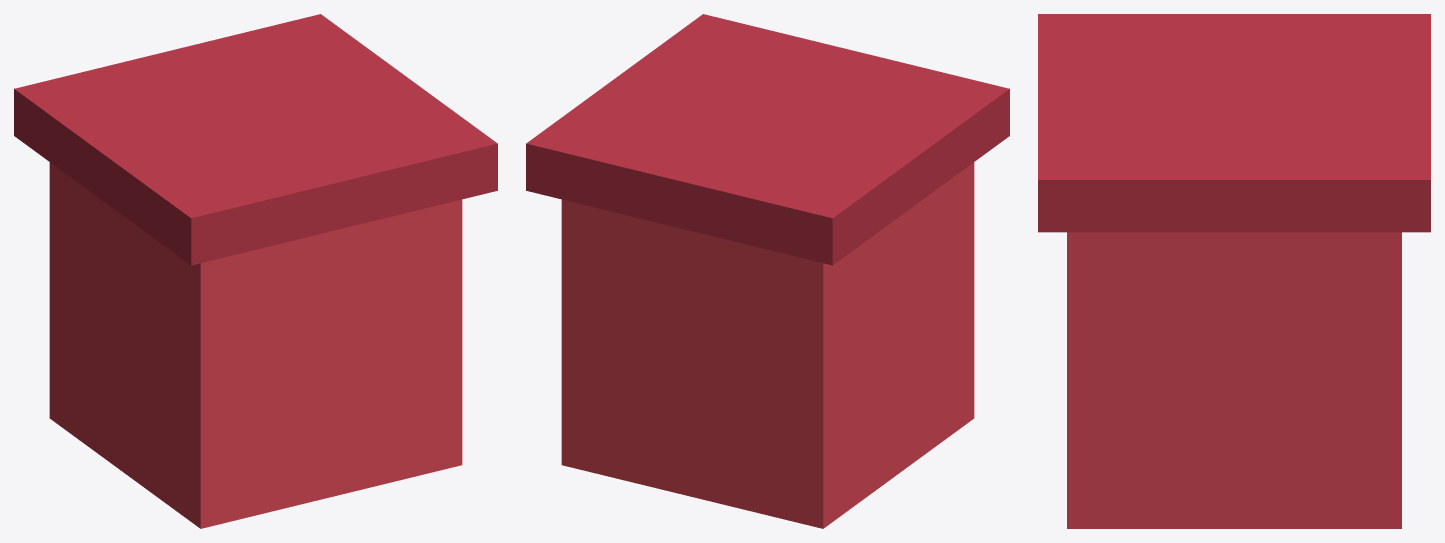
Rendered from flamenco_manga_sup.glb.
The picture shows the model from 3 angles, left to right: view 1: azimuth 30°, elevation 25°; view 2: azimuth 150°, elevation 25°; view 3: azimuth 270°, elevation 25°; orthographic projection. The views are drawn at different scales.
Parts seen in each view (by area): view 1: flamenco_manga_sup; view 2: flamenco_manga_sup; view 3: flamenco_manga_sup.
Part boxes in pixels (<box>): flamenco_manga_sup: <box>14,14,497,528</box>; flamenco_manga_sup: <box>526,14,1009,528</box>; flamenco_manga_sup: <box>1038,14,1430,528</box>.
Size of the model in its own units: 0.34 by 0.345 by 0.34.
